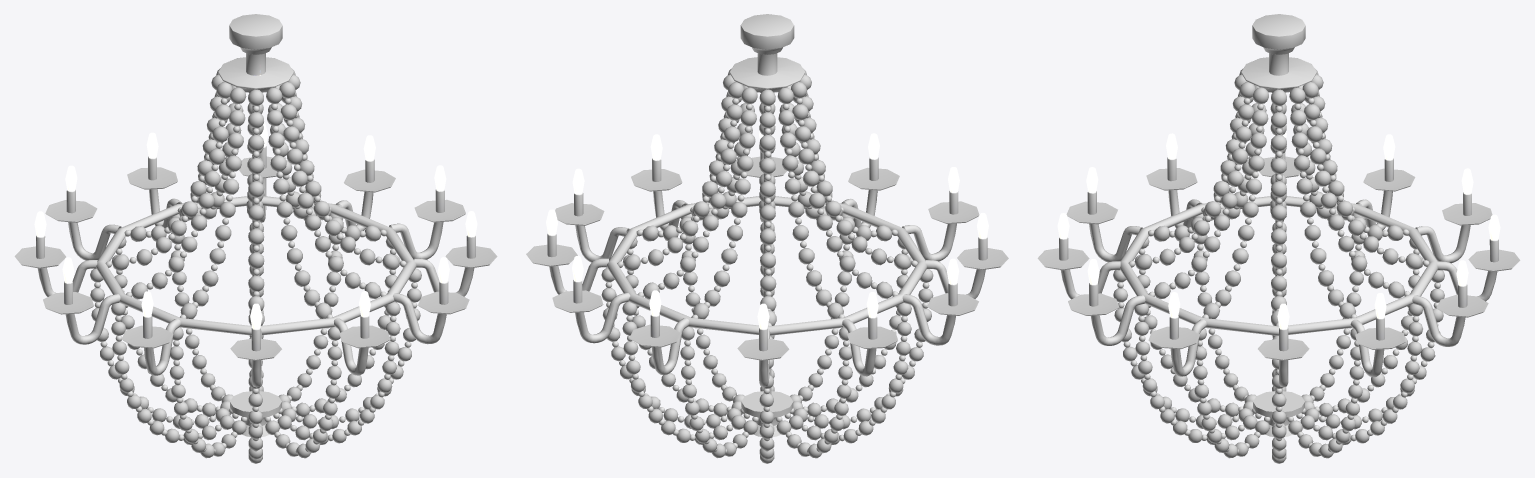
The model's file is Lights_Chandelier_3.fbx.
3 renders of one model, left to right at view 1: azimuth 30°, elevation 25°; view 2: azimuth 150°, elevation 25°; view 3: azimuth 270°, elevation 25°, orthographic.
Parts seen in each view (by area): view 1: Cylinder.034; view 2: Cylinder.034; view 3: Cylinder.034.
Part boxes in pixels (left/top/right/bottom): Cylinder.034: left=14, top=14, right=497, bottom=463; Cylinder.034: left=526, top=14, right=1008, bottom=463; Cylinder.034: left=1037, top=14, right=1520, bottom=463.
Size of the model in its own units: 192 by 182 by 192.
